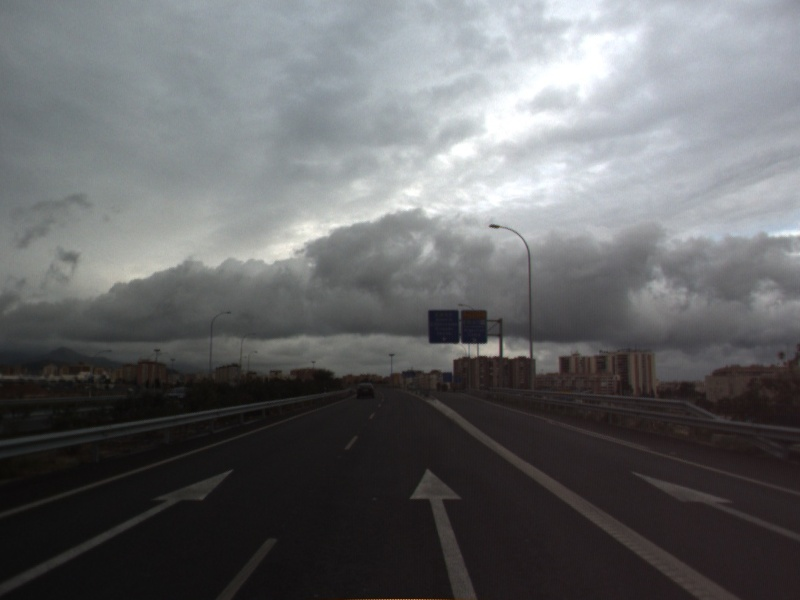STRAIGHT: (1, 465, 237, 594), (625, 468, 800, 541), (405, 463, 480, 600)
